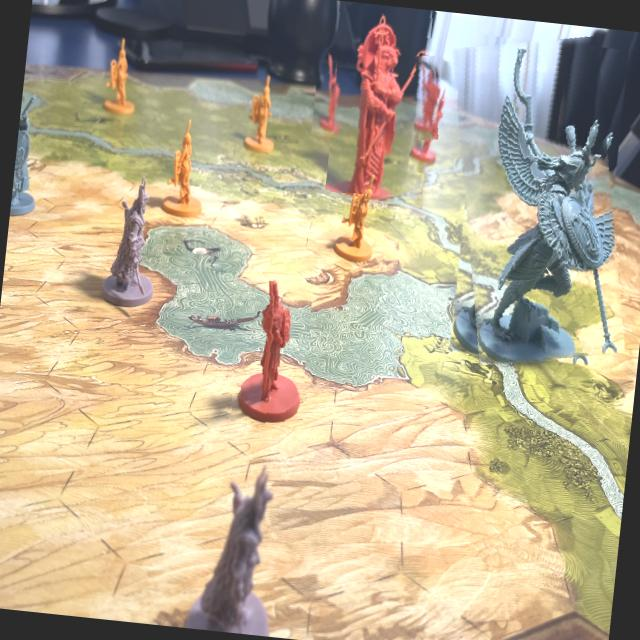amon: (322, 1, 439, 200)
amon_follower: (225, 275, 315, 428), (408, 77, 458, 176), (310, 46, 358, 140), (410, 55, 444, 142)
isis: (434, 27, 640, 372)
